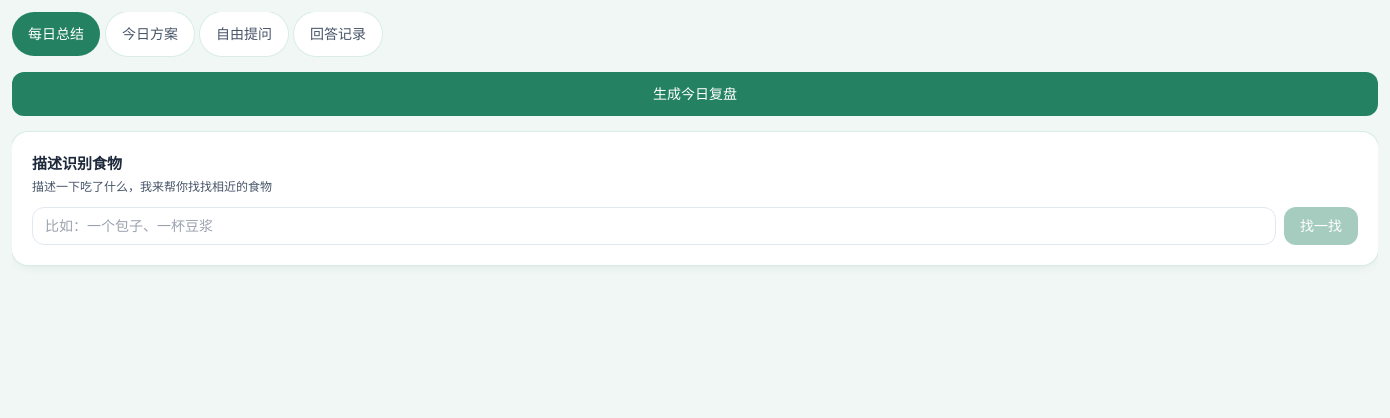
Test: AiPage 食物识别候选热量随单位切换 › 切到 kJ：候选每 100g / 一份都显示 kJ
This screenshot has width=1390, height=418.
Type "米饭" into the field with placeholder "比如：一个包子、一杯豆浆" at (654, 226), box [32,206,1276,244]
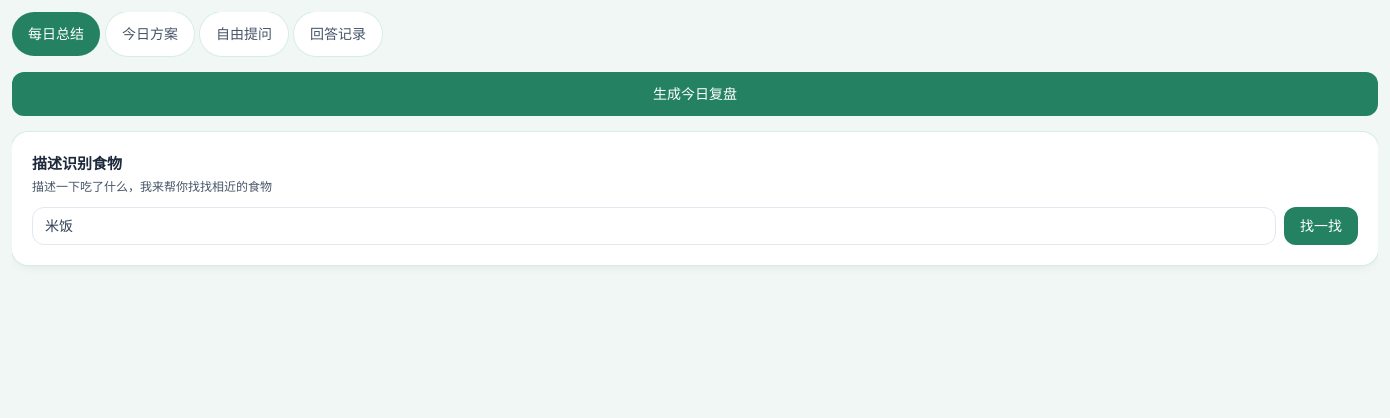
Click the button "找一找" at (1321, 226), box [1284,206,1358,244]
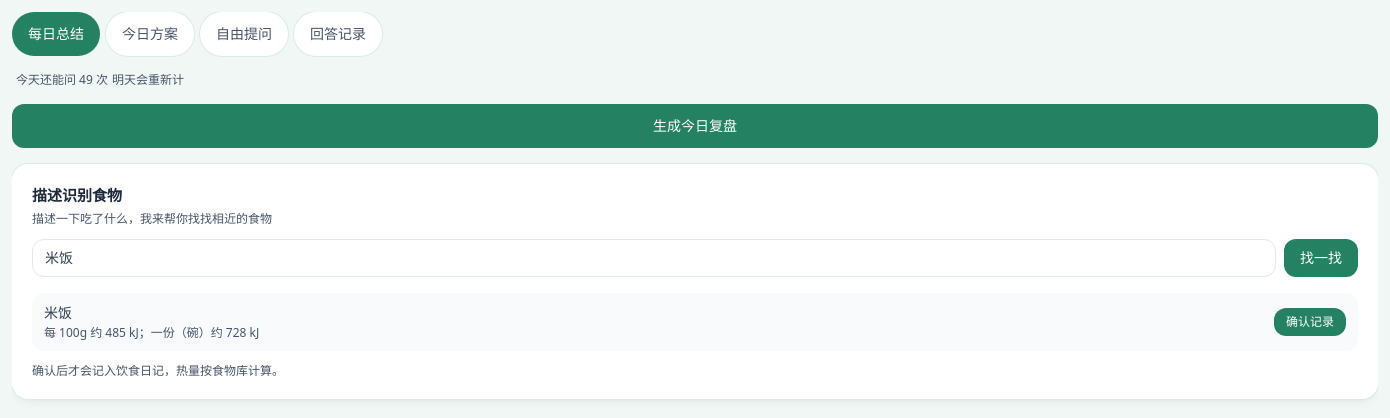
Expected: the text "米饭" is shown, [44,302,72,322]
